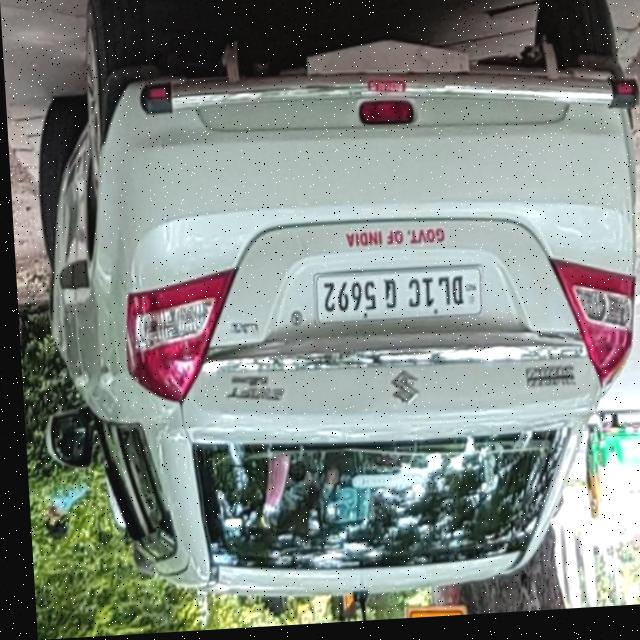plate: (309, 270, 482, 332)
